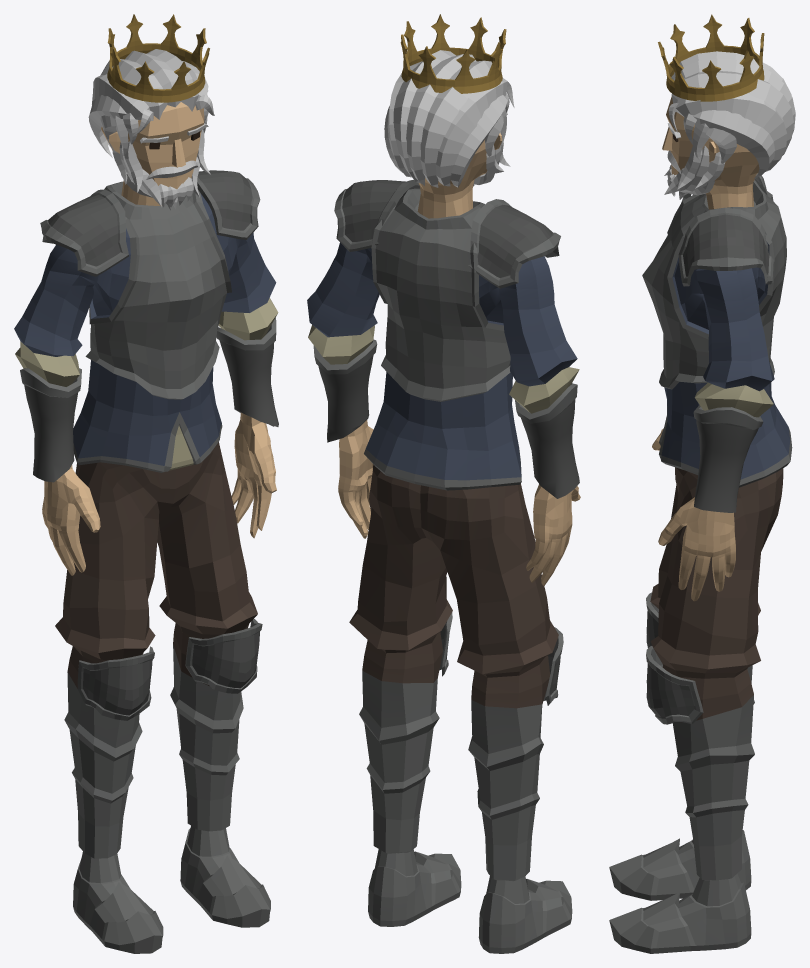
Rendered from king.glb.
The picture shows the model from 3 angles, left to right: view 1: azimuth 30°, elevation 25°; view 2: azimuth 150°, elevation 25°; view 3: azimuth 270°, elevation 25°; orthographic projection. The views are drawn at different scales.
Parts seen in each view (by area): view 1: King_Body, King_Legs, King_Head, King_Feet; view 2: King_Body, King_Legs, King_Head, King_Feet; view 3: King_Body, King_Legs, King_Head, King_Feet.
Boxes of the visible parts, <box> form: King_Body: <box>14,170,278,575</box>; King_Legs: <box>55,442,262,858</box>; King_Head: <box>88,14,214,210</box>; King_Feet: <box>73,826,270,953</box>; King_Body: <box>307,180,580,585</box>; King_Legs: <box>349,464,563,881</box>; King_Head: <box>384,14,514,218</box>; King_Feet: <box>368,849,572,953</box>; King_Body: <box>642,175,792,601</box>; King_Legs: <box>646,467,783,880</box>; King_Head: <box>658,14,795,209</box>; King_Feet: <box>609,830,751,953</box>.
Size of the model in its own units: 0.5736 by 1.89 by 0.3632.
